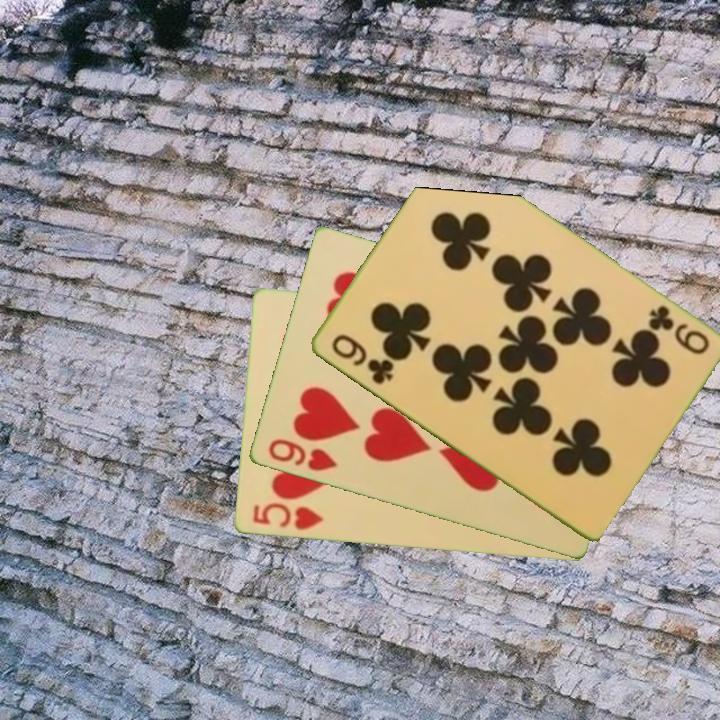5h: (249, 499, 326, 533)
9c: (327, 330, 396, 388), (644, 301, 712, 358)
9h: (264, 435, 340, 475)
